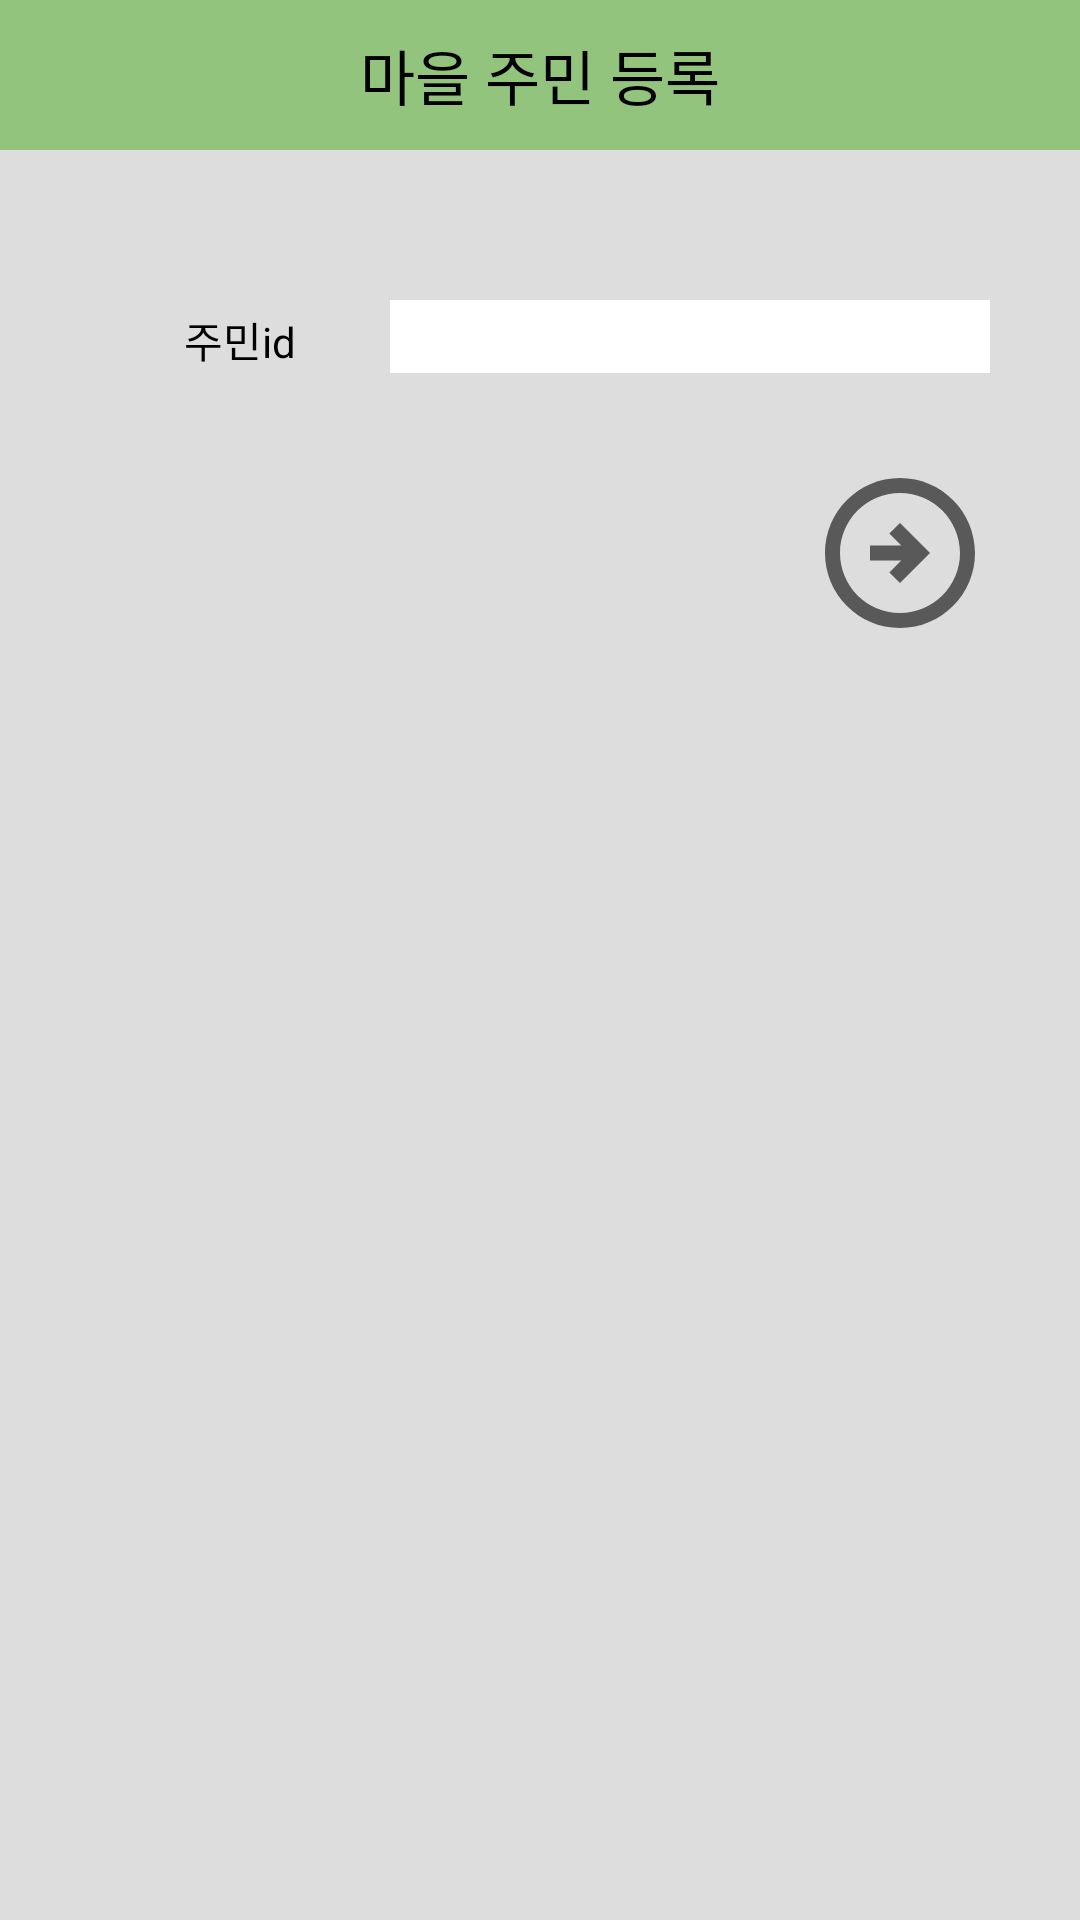

Where to tap for icons on this 1080 x 1920 app screen, as point (x, y):
arrow circle next: point (900, 553)
